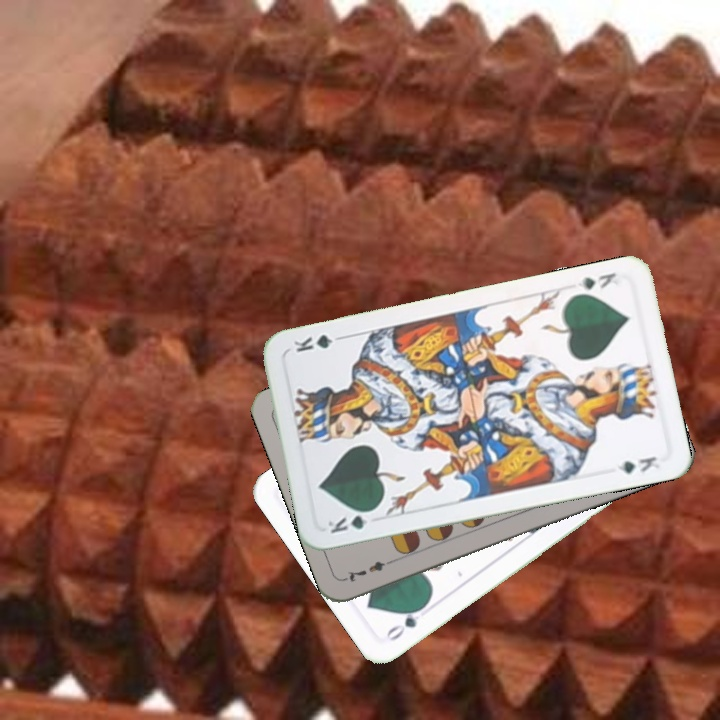E7: (341, 554, 398, 585)
GK: (324, 505, 380, 536), (573, 268, 622, 293)
GO: (382, 600, 430, 644)
